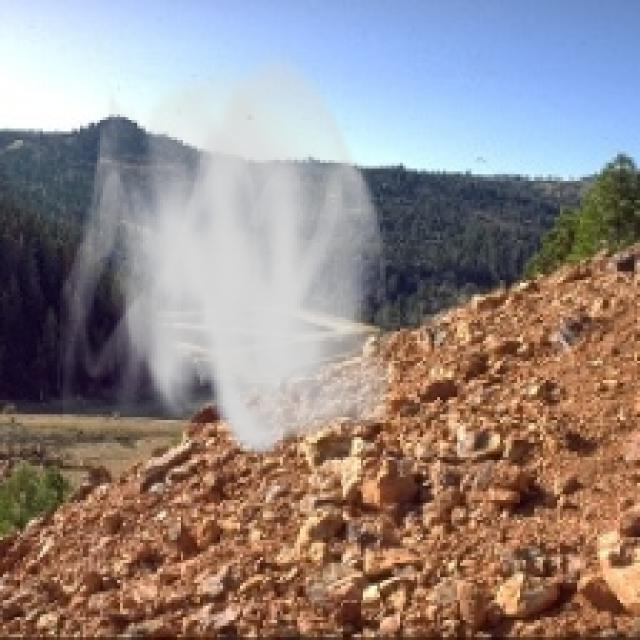Smoke: (54, 43, 400, 460)
